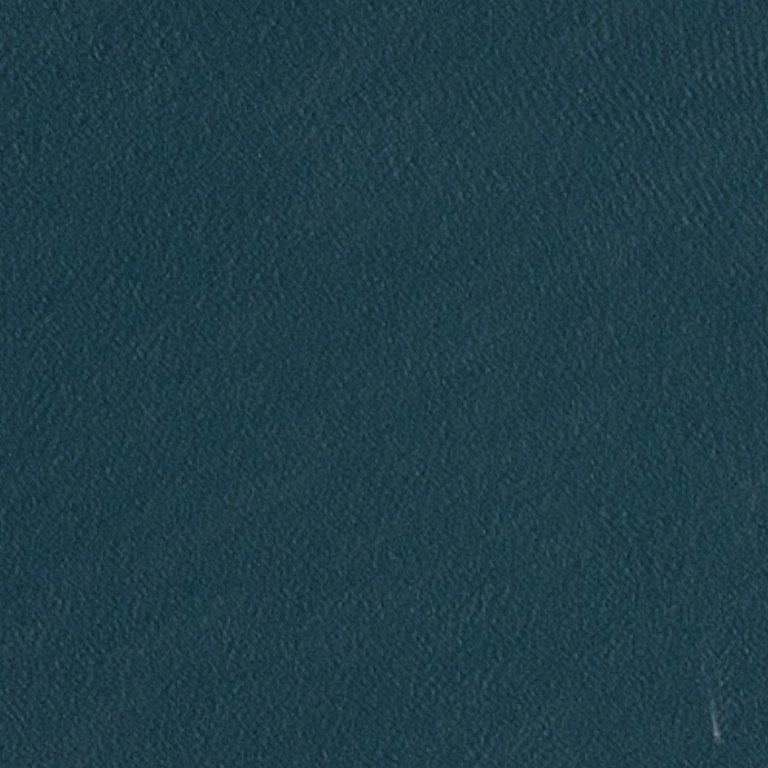ship: (717, 740, 719, 743), (720, 732, 721, 735), (691, 733, 692, 734), (718, 735, 718, 740)
